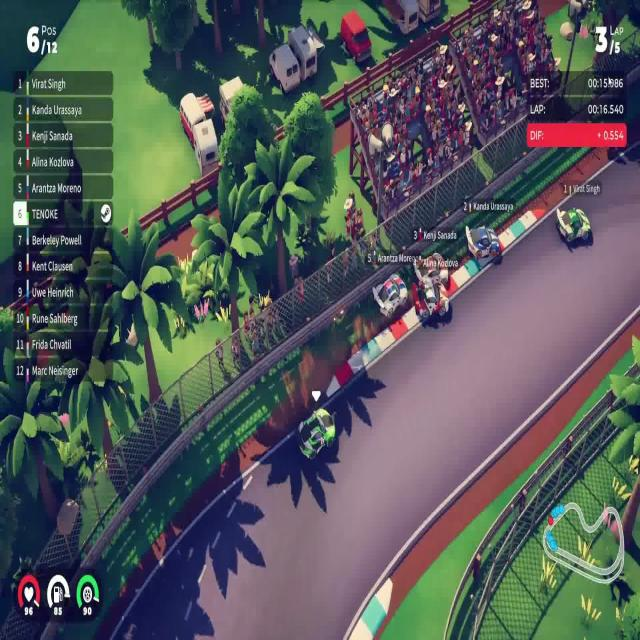car: (297, 406, 337, 462), (340, 9, 372, 65), (412, 278, 450, 324), (372, 272, 408, 320), (464, 222, 501, 265), (555, 205, 592, 246), (415, 252, 450, 287)
